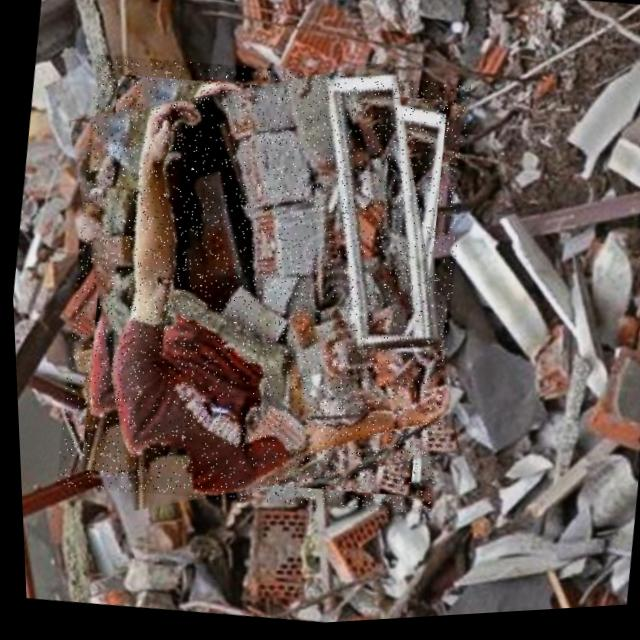Person in Rubble: (37, 37, 486, 537)
